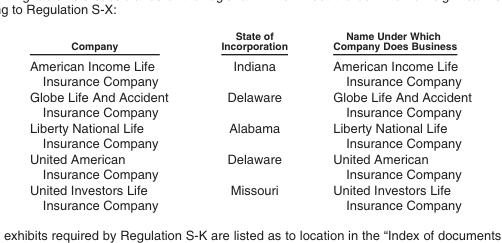table: (28, 28, 470, 212)
table column: (28, 28, 193, 212), (309, 28, 470, 212), (193, 28, 309, 212)
table column header: (28, 28, 470, 54)
table row: (28, 54, 470, 88), (28, 88, 470, 119), (28, 119, 470, 150), (28, 150, 470, 181), (28, 181, 470, 212), (28, 28, 470, 54)
